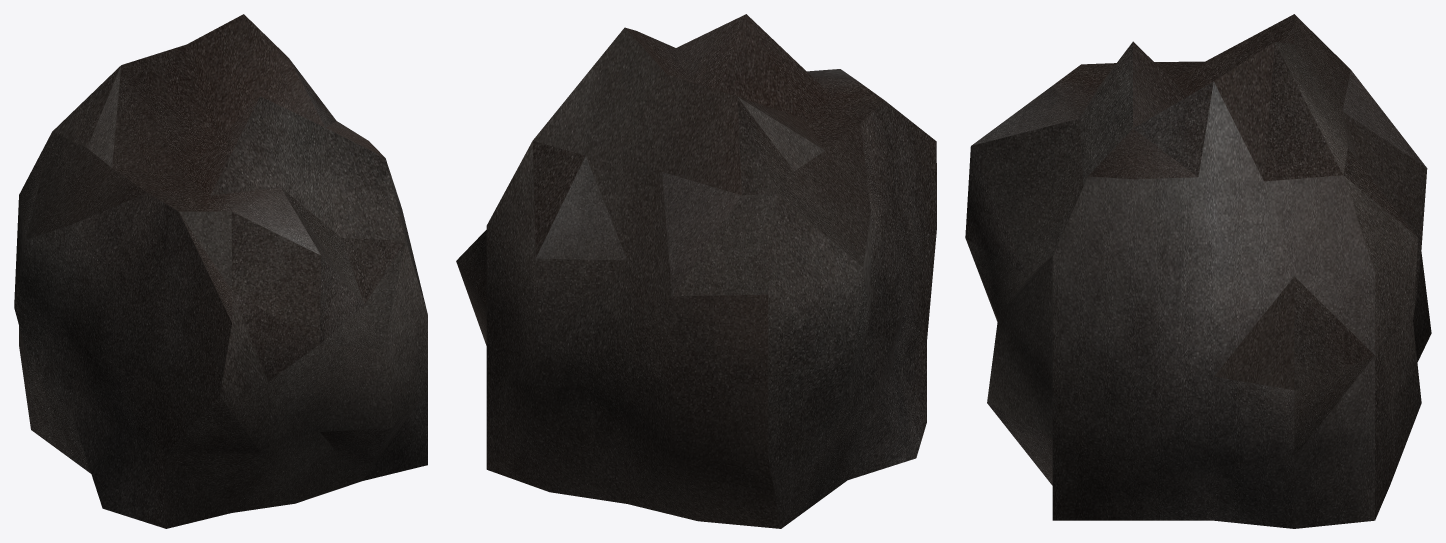
File: boulder01.DAE
3 views of the same model, side by side, from view 1: azimuth 30°, elevation 25°; view 2: azimuth 150°, elevation 25°; view 3: azimuth 270°, elevation 25° (orthographic). The views are drawn at different scales.
Visible parts, largest first — view 1: Box001; view 2: Box001; view 3: Box001.
Part boxes in pixels (bbox=[...]): Box001: bbox=[14, 14, 427, 528]; Box001: bbox=[456, 14, 936, 528]; Box001: bbox=[965, 14, 1431, 528].
Bounding box in the file's own units: 1 × 1.03 × 1.
